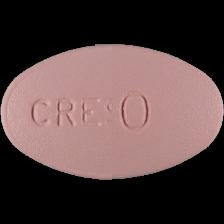21695-659: (0, 0, 224, 224)
